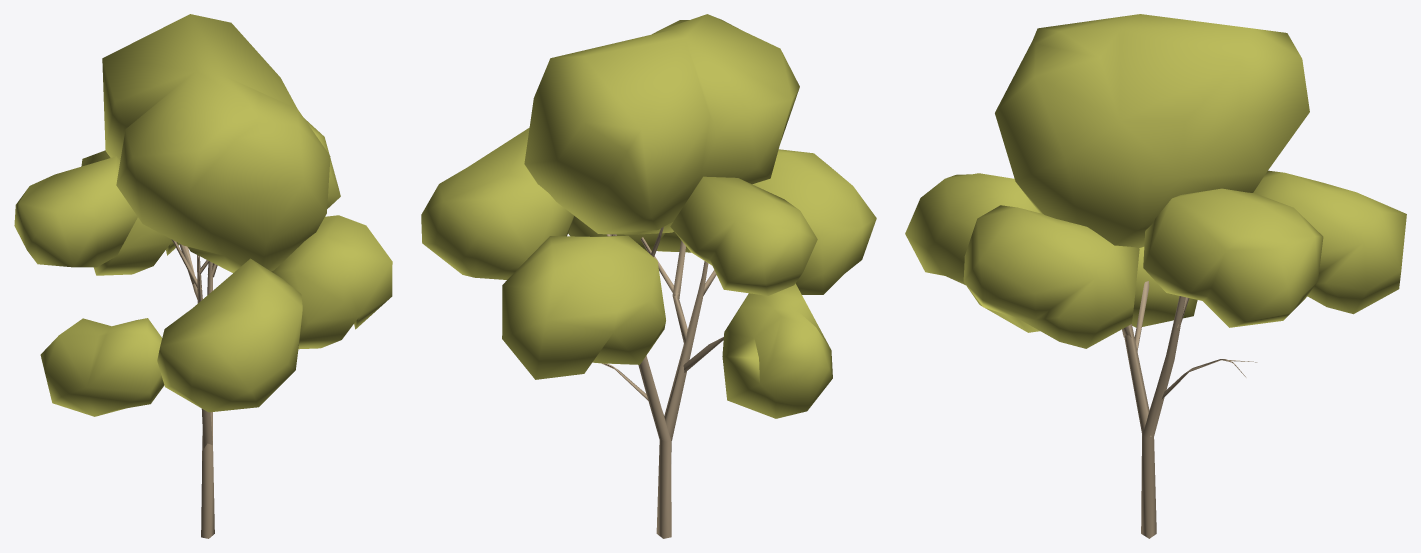
Rendered from 1Forest_tree1.fbx.
3 views of the same model, side by side, from view 1: azimuth 30°, elevation 25°; view 2: azimuth 150°, elevation 25°; view 3: azimuth 270°, elevation 25° (orthographic). The views are drawn at different scales.
Visible parts, largest first — view 1: tree1; view 2: tree1; view 3: tree1.
Boxes of the visible parts, x1,y1,x2,y2 form: tree1: [14, 14, 392, 538]; tree1: [421, 14, 876, 538]; tree1: [905, 14, 1406, 538].
Size of the model in its own units: 483 by 671 by 584.
